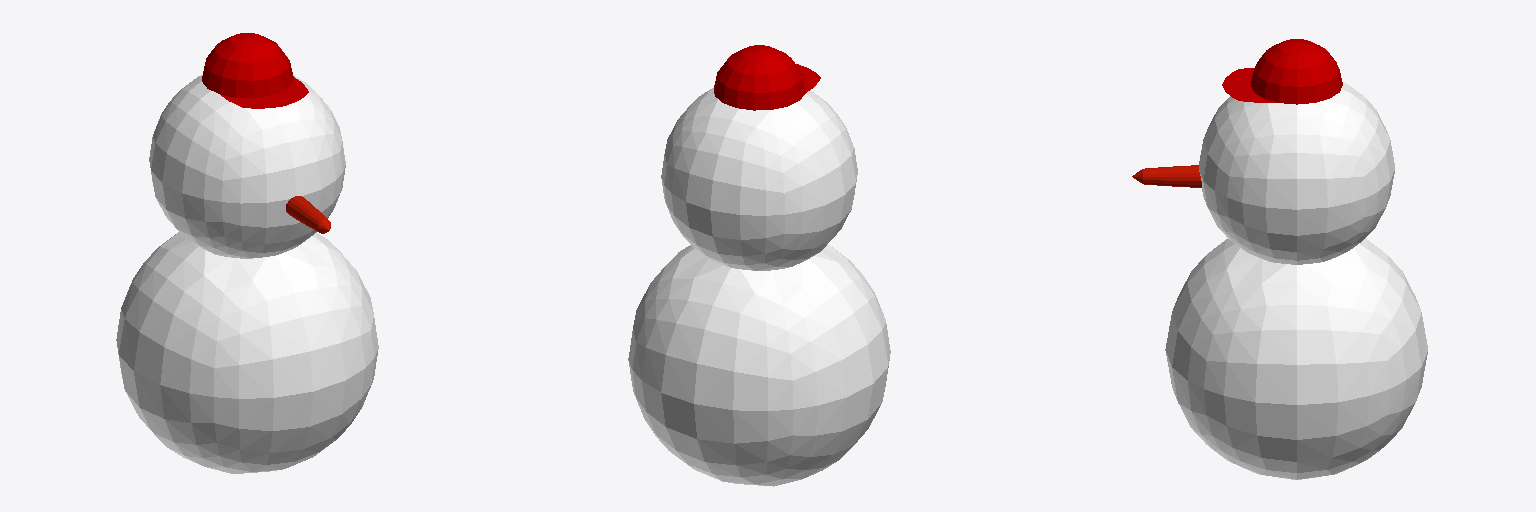
The model's file is player.obj.
3 views of the same model, side by side, from view 1: azimuth 30°, elevation 25°; view 2: azimuth 150°, elevation 25°; view 3: azimuth 270°, elevation 25° (orthographic).
Parts seen in each view (by area): view 1: 立方体; view 2: 立方体; view 3: 立方体.
Part boxes in pixels (bbox=[...]): 立方体: bbox=[116, 33, 378, 473]; 立方体: bbox=[628, 45, 890, 486]; 立方体: bbox=[1132, 39, 1427, 479].
Size of the model in its own units: 1 by 1.79 by 1.13.